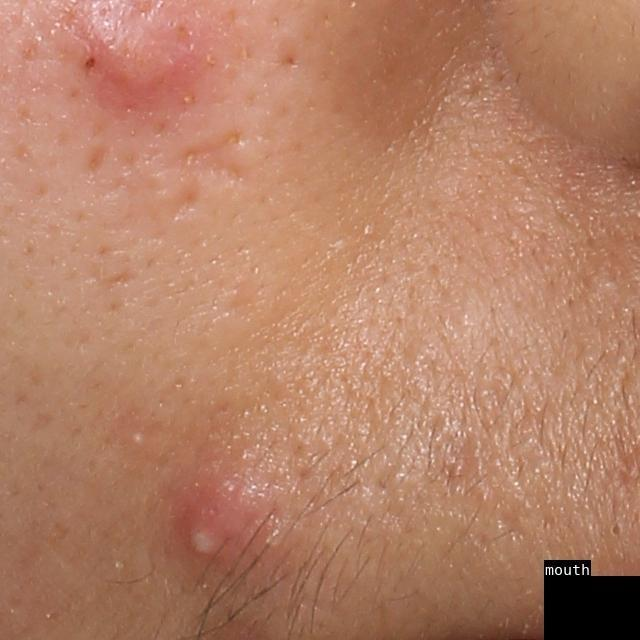atrophic_scar: (181, 126, 252, 181), (163, 182, 210, 223), (84, 140, 113, 185)
comedo: (608, 516, 626, 544)
papule: (75, 1, 197, 106)
pustule: (176, 473, 278, 588), (127, 428, 147, 449)
